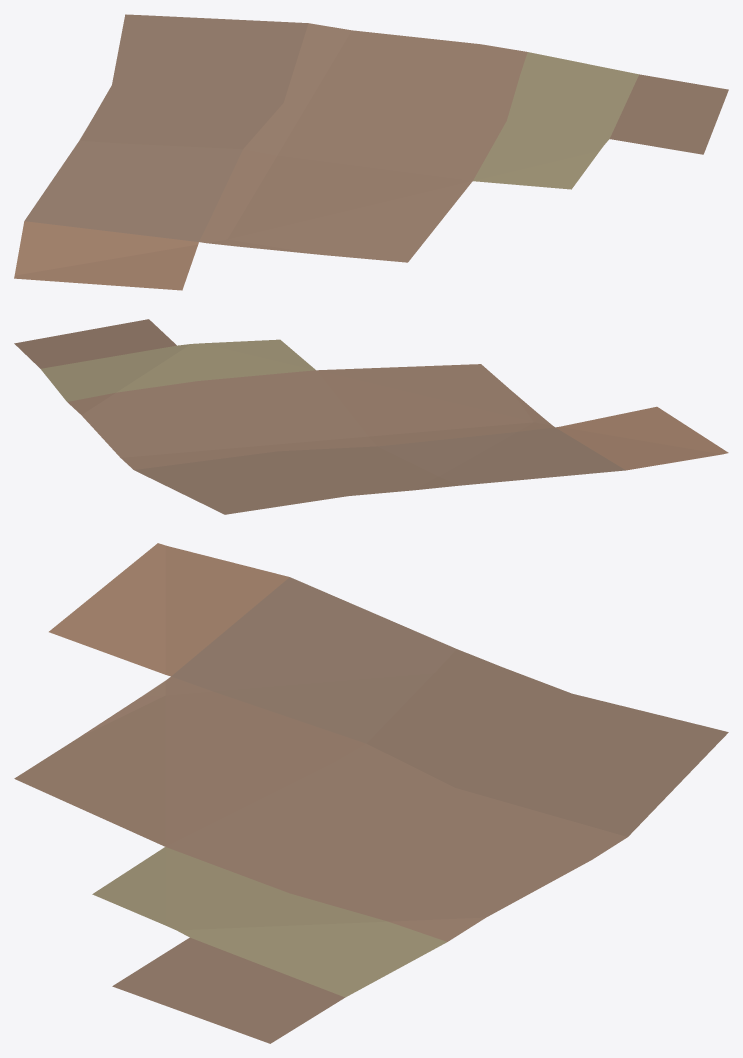
Rendered from farm_-50_-49_soil.glb.
The picture shows the model from 3 angles, top to bottom: view 1: azimuth 30°, elevation 25°; view 2: azimuth 150°, elevation 25°; view 3: azimuth 270°, elevation 25°; orthographic projection. The views are drawn at different scales.
Visible parts, largest first — view 1: geometry_0; view 2: geometry_0; view 3: geometry_0.
Part boxes in pixels (x1=…): geometry_0: x1=14, y1=14, x2=728, y2=290; geometry_0: x1=14, y1=319, x2=728, y2=514; geometry_0: x1=14, y1=543, x2=728, y2=1043.
Size of the model in its own units: 159 by 8.77 by 104.
